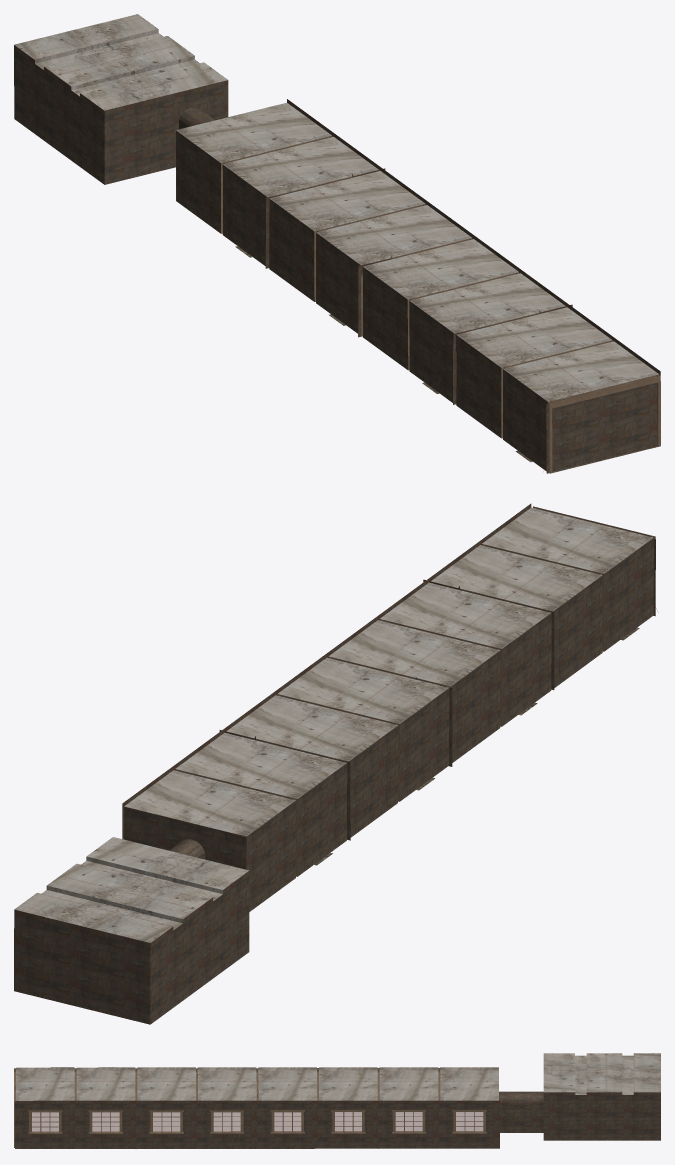
The model's file is castle-v2.glb.
3 views of the same model, one above another, from view 1: azimuth 30°, elevation 25°; view 2: azimuth 150°, elevation 25°; view 3: azimuth 270°, elevation 25° (orthographic). The views are drawn at different scales.
Parts seen in each view (by area): view 1: Material2.005, Material2.006, Material2.016, Material2; view 2: Material2.005, Material2.006, Material2; view 3: Material2.006, Material2.005, Material2, Material2.003, Material2.004.
Part boxes in pixels (x1,y1,x2,y2): Material2.005: (14, 14, 658, 401); Material2.006: (14, 45, 660, 471); Material2.016: (543, 382, 657, 473); Material2: (221, 135, 660, 473); Material2.005: (14, 507, 653, 942); Material2.006: (14, 503, 653, 1024); Material2: (175, 506, 655, 877); Material2.006: (15, 1067, 660, 1148); Material2.005: (16, 1053, 660, 1100); Material2: (14, 1068, 486, 1147); Material2.003: (32, 1112, 483, 1131); Material2.004: (32, 1114, 482, 1130).
Size of the model in its own units: 236 by 114 by 1311.
Materials: 13 (12 with a texture image).
